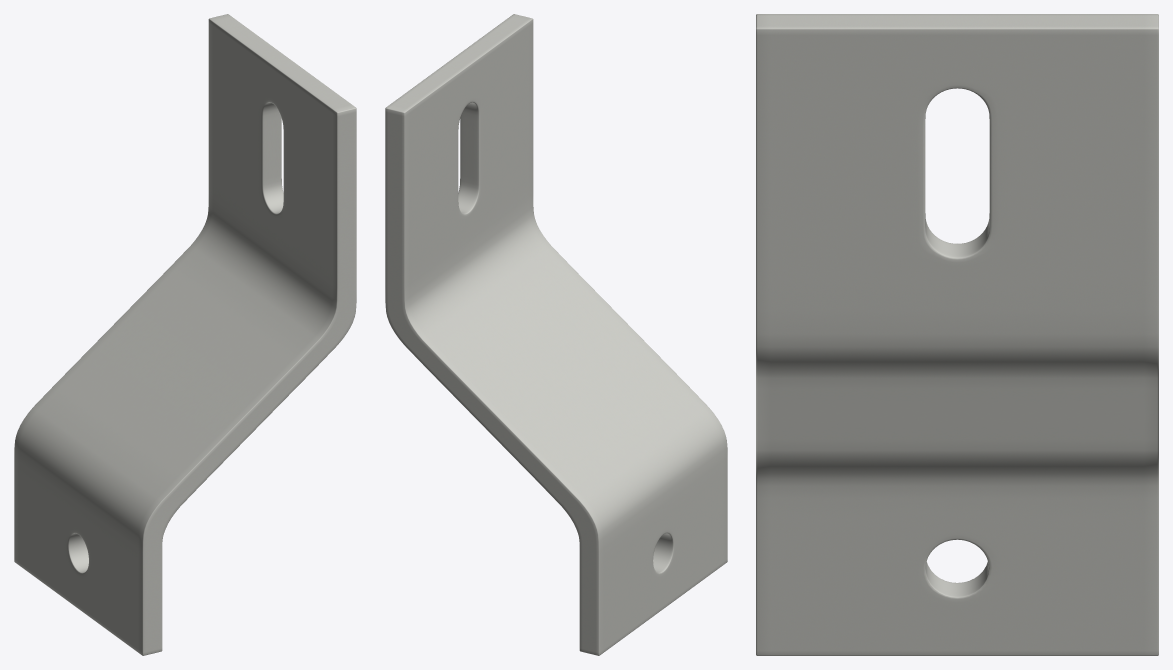
The picture shows the model from 3 angles, left to right: view 1: azimuth 30°, elevation 25°; view 2: azimuth 150°, elevation 25°; view 3: azimuth 270°, elevation 25°; orthographic projection. The views are drawn at different scales.
Parts seen in each view (by area): view 1: PN 5000 (05); view 2: PN 5000 (05); view 3: PN 5000 (05).
Boxes of the visible parts, x1=… form: PN 5000 (05): x1=14, y1=14, x2=356, y2=655; PN 5000 (05): x1=385, y1=14, x2=727, y2=655; PN 5000 (05): x1=756, y1=14, x2=1158, y2=655.
Bounding box in the file's own units: 29.91 × 66.26 × 31.18.
1 material, 1 textured.
